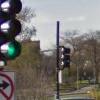Traffic light: (1, 0, 30, 70)
